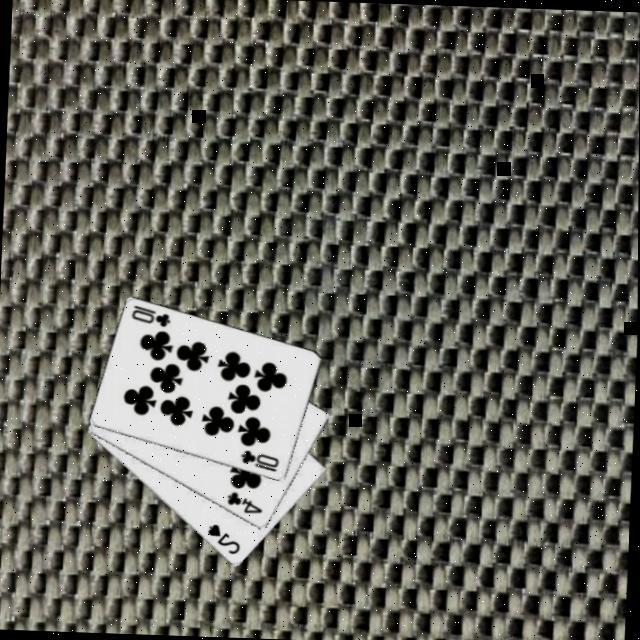10C: (129, 300, 174, 328), (239, 445, 283, 472)
2S: (205, 519, 245, 556)
4C: (225, 486, 267, 514)
